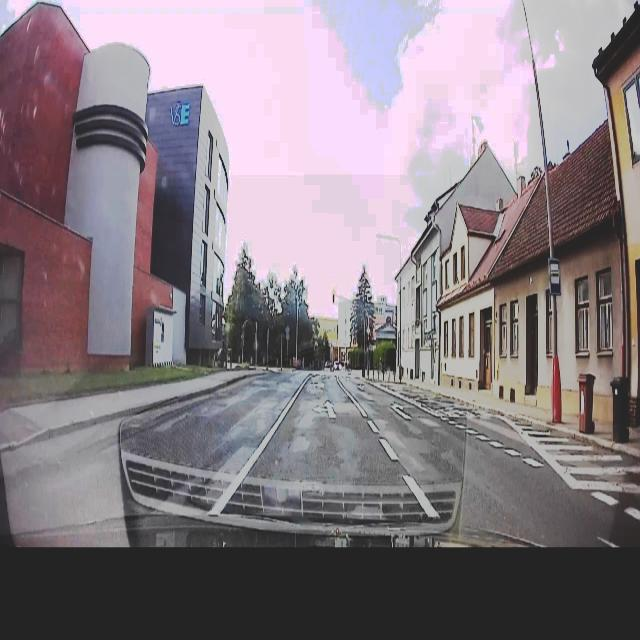Priority road: (366, 326, 370, 334)
